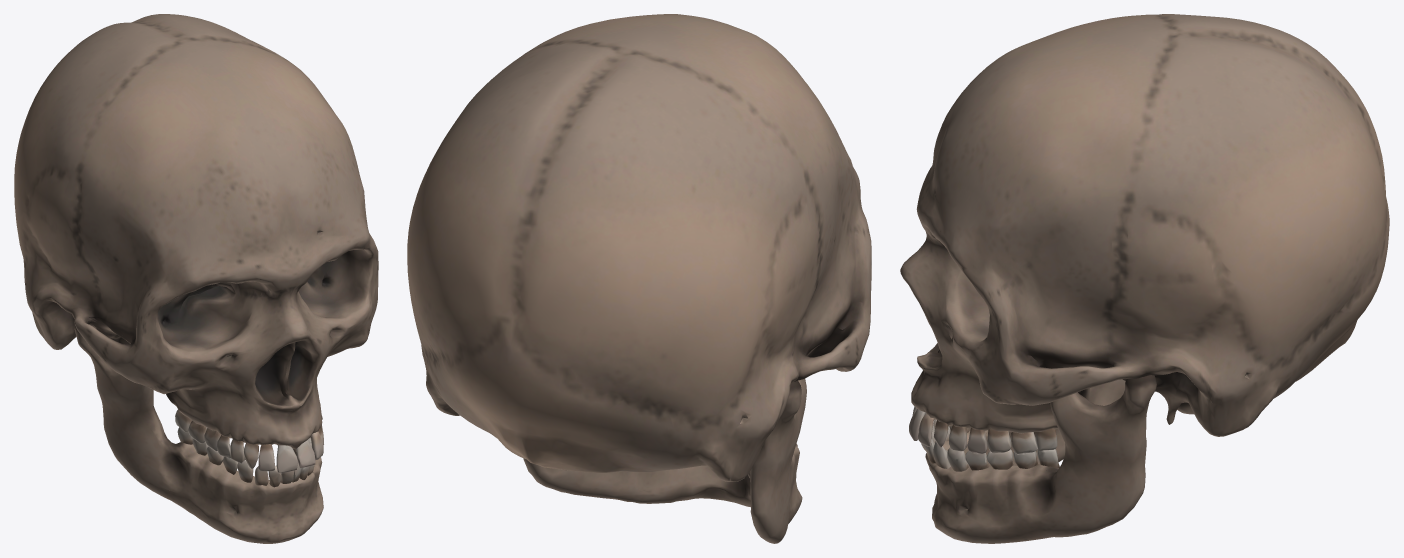
Rendered from skull.glb.
3 renders of one model, left to right at view 1: azimuth 30°, elevation 25°; view 2: azimuth 150°, elevation 25°; view 3: azimuth 270°, elevation 25°, orthographic. The views are drawn at different scales.
Parts seen in each view (by area): view 1: Object_2; view 2: Object_2; view 3: Object_2.
Part boxes in pixels (x1=…): Object_2: x1=14, y1=14, x2=378, y2=543; Object_2: x1=407, y1=14, x2=871, y2=543; Object_2: x1=900, y1=14, x2=1389, y2=543.
Bounding box in the file's own units: 1.34 × 2 × 1.79.
Materials: 1 (1 with a texture image).
